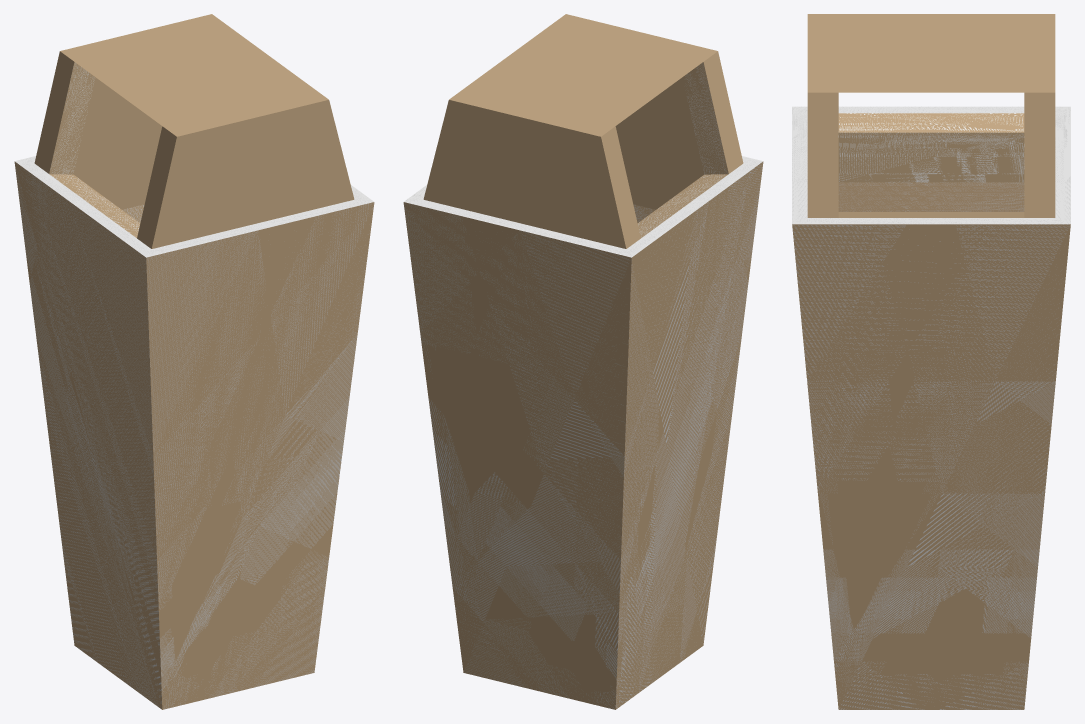
File: TrashBin.fbx
3 renders of one model, left to right at view 1: azimuth 30°, elevation 25°; view 2: azimuth 150°, elevation 25°; view 3: azimuth 270°, elevation 25°, orthographic. The views are drawn at different scales.
Parts seen in each view (by area): view 1: Mesh_0; view 2: Mesh_0; view 3: Mesh_0.
Part boxes in pixels (bbox=[...]): Mesh_0: bbox=[14, 14, 374, 709]; Mesh_0: bbox=[403, 14, 763, 709]; Mesh_0: bbox=[792, 14, 1070, 709].
Bounding box in the file's own units: 45.72 × 112 × 45.72.
